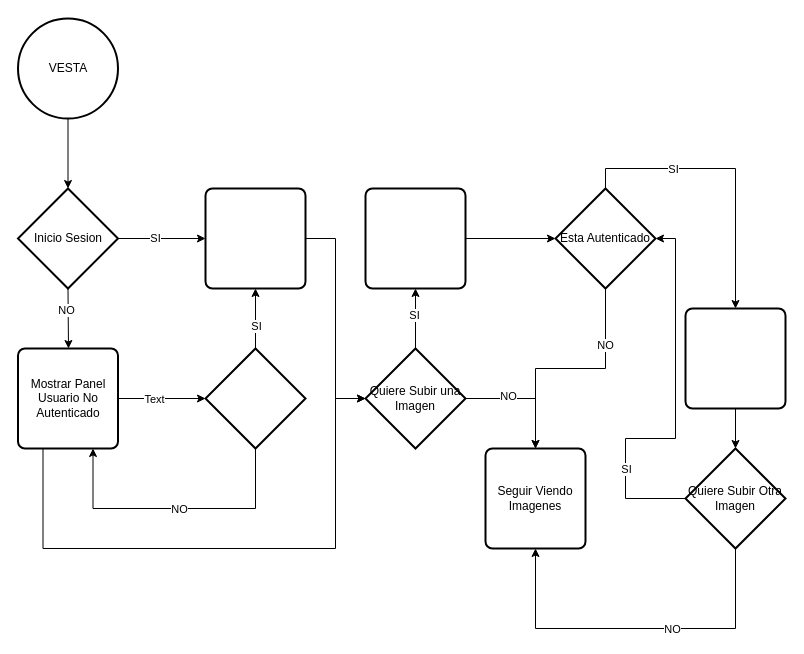
The diagram is 804 pixels wide and 654 high, and some of its shapes have lost their labels. Each missing label, with the box of its shape:
Mostrar Panel de Uploads: (364, 187, 466, 289)
Mostrar Panel de Usuario Autenticado: (204, 187, 306, 289)
Permitir Subir Imagen: (684, 307, 786, 409)
Quiere Iniciar Session: (204, 347, 306, 449)
